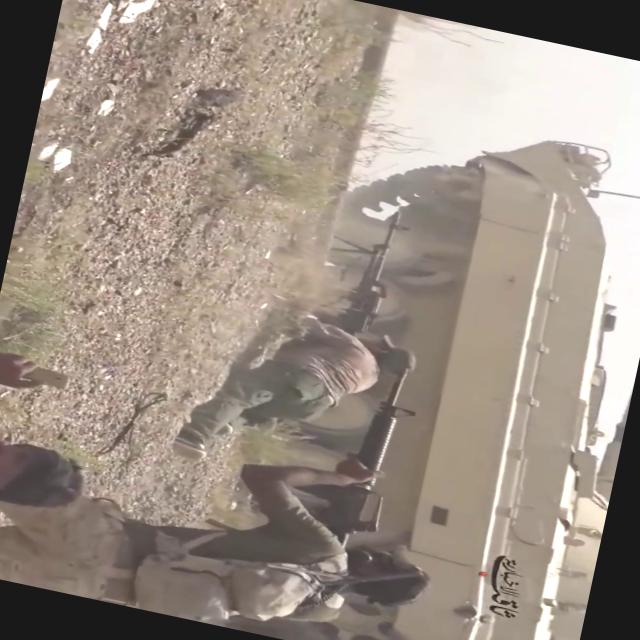long weapon: (288, 352, 426, 550), (296, 193, 418, 349)
